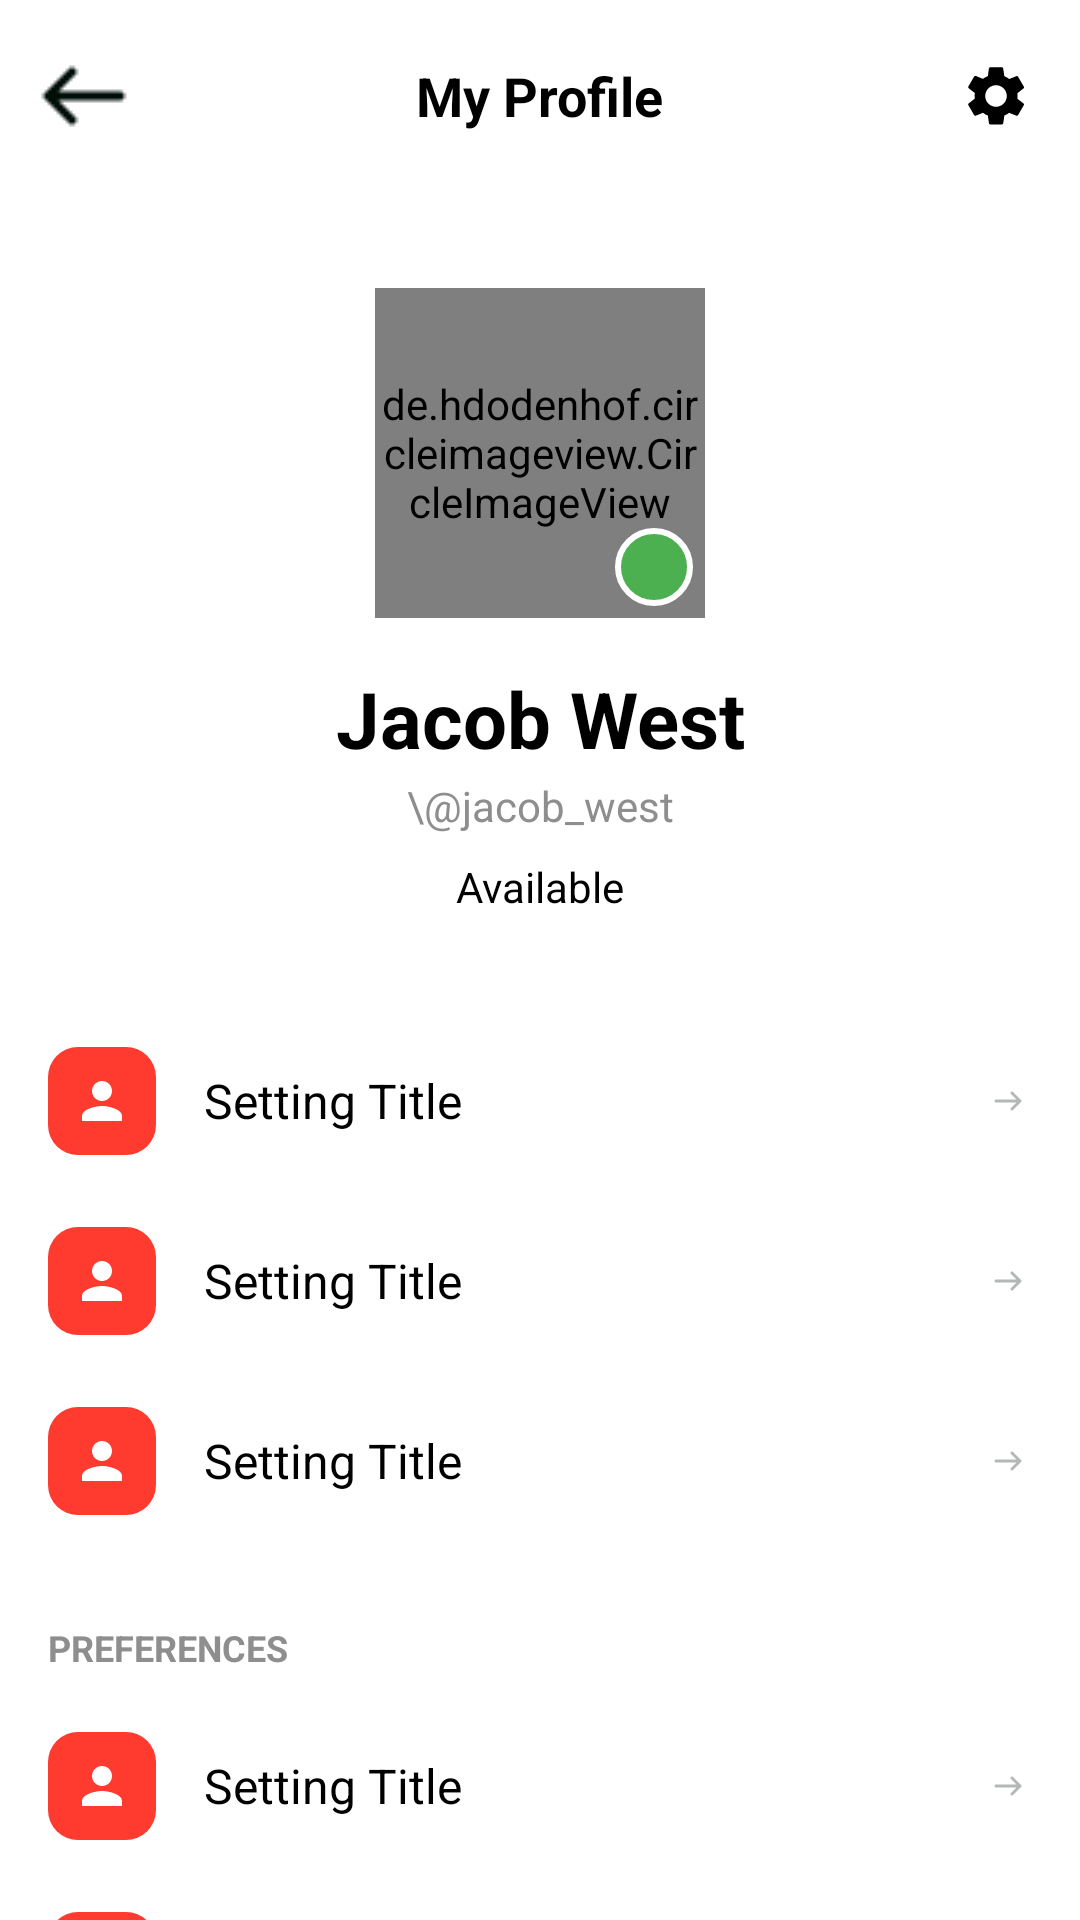

Point at icon controls on the screen. Image size 1080 x 1920, points as [x,y].
settings gear: [996,96]
